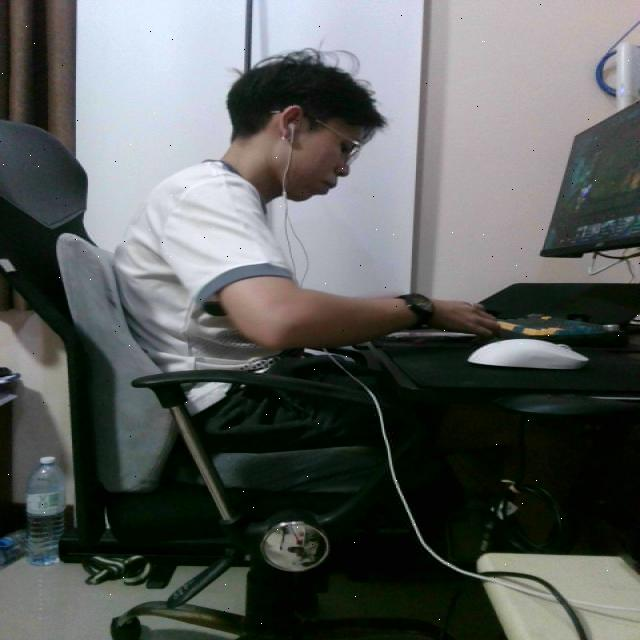Bad: (111, 33, 479, 471)
